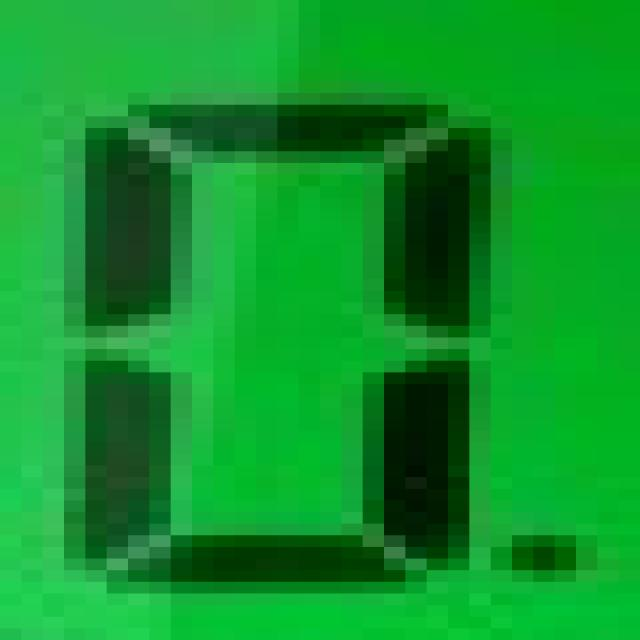.: (492, 527, 608, 590)
0: (53, 93, 523, 617)
